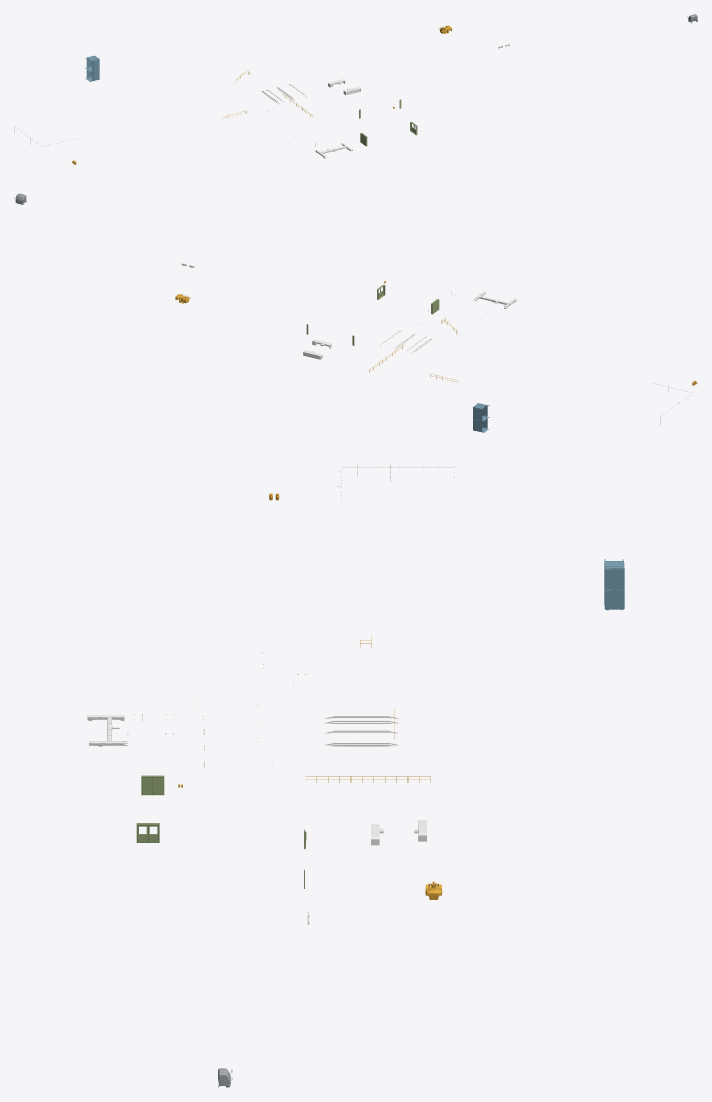
3 views of the same model, one above another, from view 1: azimuth 30°, elevation 25°; view 2: azimuth 150°, elevation 25°; view 3: azimuth 270°, elevation 25° (orthographic). The views are drawn at different scales.
Parts seen in each view (by area): view 1: n0_lr0_agg_merge_metal_crate_001b_0_fragment2_c-1_-1; view 2: n0_lr0_agg_merge_metal_crate_001b_0_fragment2_c-1_-1; view 3: n0_lr0_agg_merge_metal_crate_001b_0_fragment2_c-1_-1, n0_lr0_agg_merge_nuke_industrial_props_002b_0_fragment1, n0_lr0_agg_merge_metal_door_001_0_fragment5_c1_1.
Part boxes in pixels (left/top/right/bottom): n0_lr0_agg_merge_metal_crate_001b_0_fragment2_c-1_-1: left=85, top=55, right=99, bottom=81; n0_lr0_agg_merge_metal_crate_001b_0_fragment2_c-1_-1: left=473, top=403, right=489, bottom=432; n0_lr0_agg_merge_metal_crate_001b_0_fragment2_c-1_-1: left=604, top=559, right=624, bottom=610; n0_lr0_agg_merge_nuke_industrial_props_002b_0_fragment1: left=324, top=716, right=399, bottom=746; n0_lr0_agg_merge_metal_door_001_0_fragment5_c1_1: left=136, top=775, right=306, bottom=888.
Bounding box in the file's own units: 8137 × 800 × 3016.
